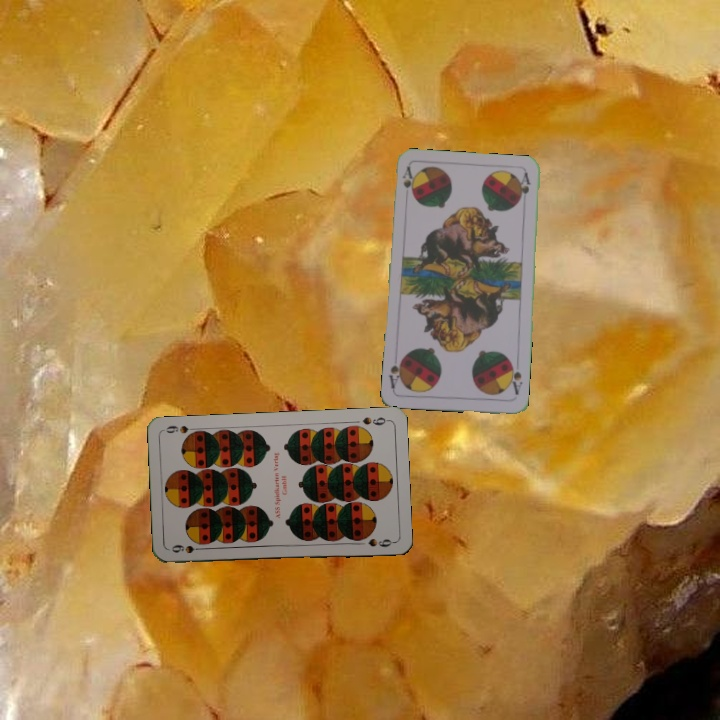S9: (168, 541, 208, 556), (358, 413, 391, 428)
SA: (505, 358, 525, 397), (398, 163, 417, 203)
